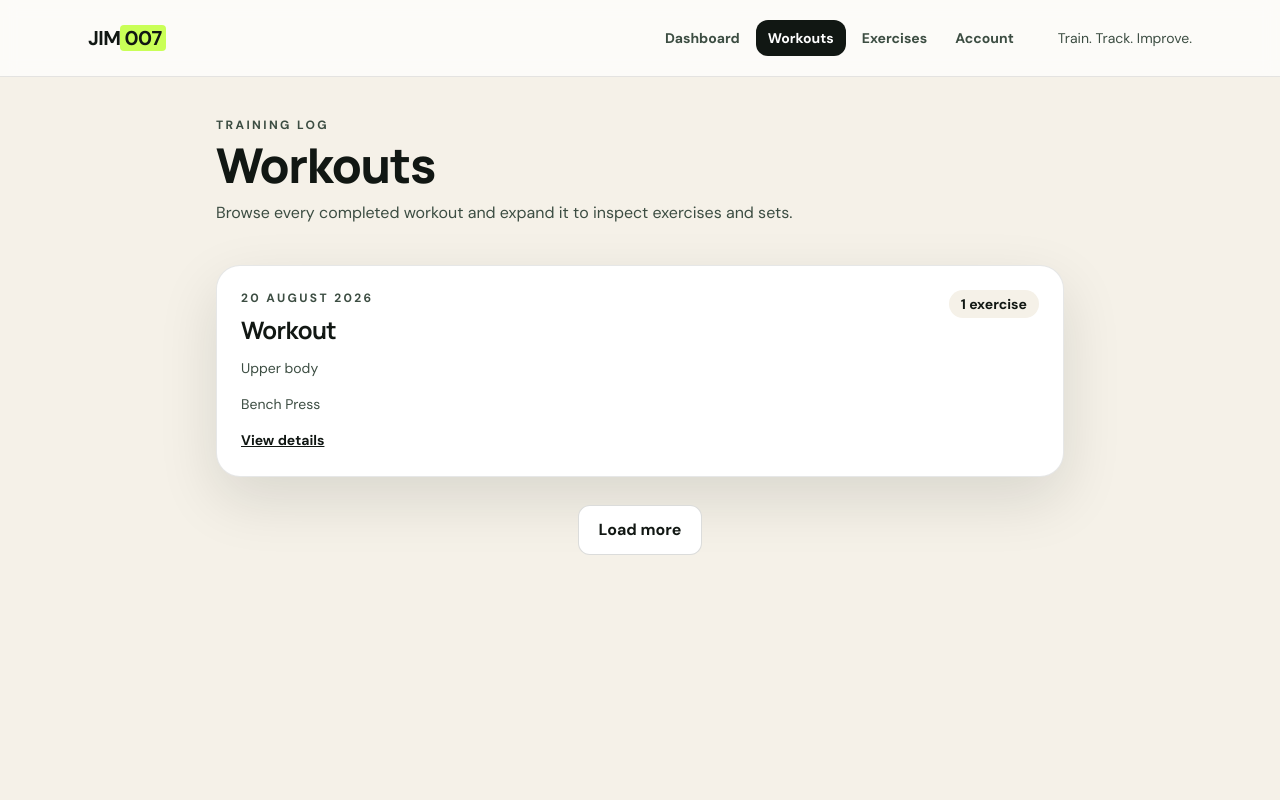
Test case: authentication and optional integrations › loads the next workout page from the opaque cursor
Click the button "Load more" at (640, 530), box x1=578 y1=505 x2=702 y2=555
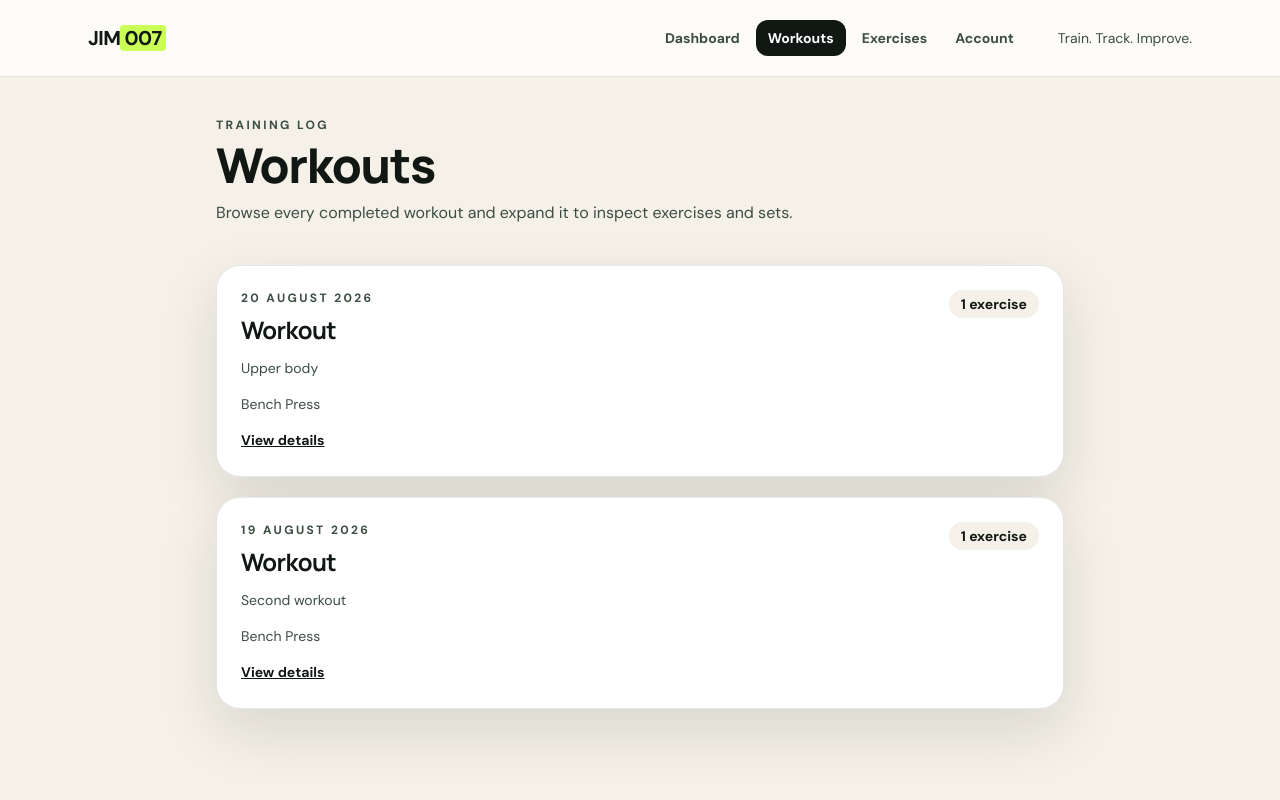
Expected: the text "Second workout" is shown, x1=241 y1=591 x2=346 y2=609
Expected: the button "Load more" is gone
